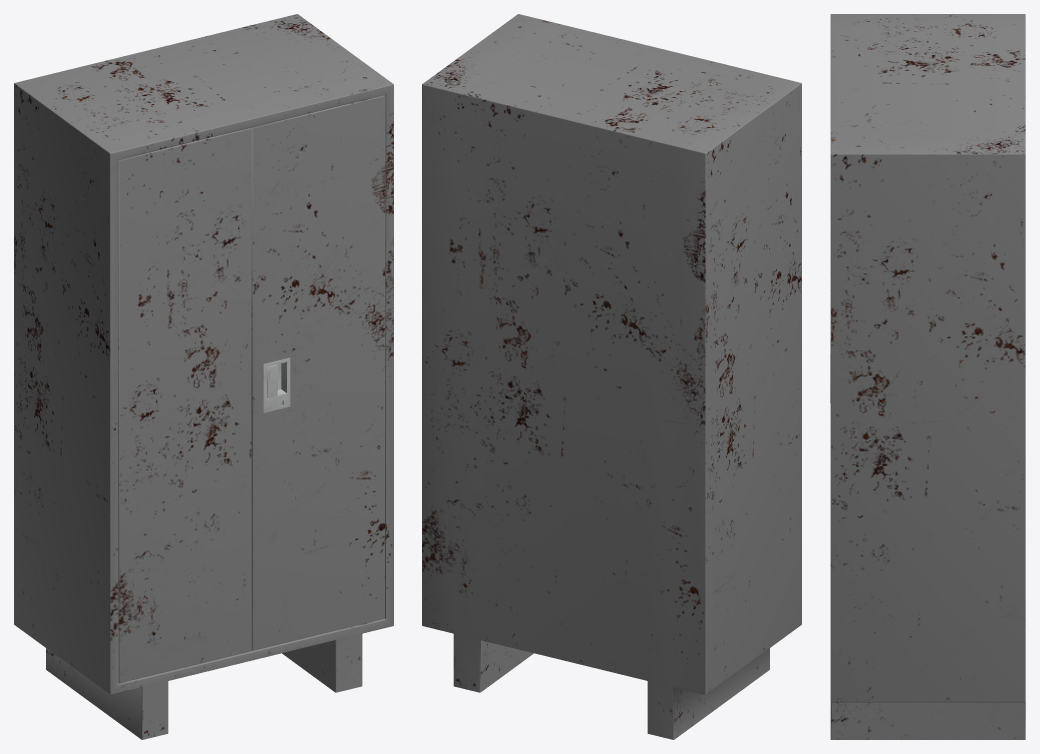
Rendered from cupboard.glb.
3 views of the same model, side by side, from view 1: azimuth 30°, elevation 25°; view 2: azimuth 150°, elevation 25°; view 3: azimuth 270°, elevation 25° (orthographic).
Visible parts, largest first — view 1: cupboard__0; view 2: cupboard__0; view 3: cupboard__0.
Boxes of the visible parts, box(x1,y1,x2,y2) form: cupboard__0: box(14, 14, 393, 739); cupboard__0: box(422, 14, 801, 739); cupboard__0: box(830, 14, 1025, 739).
Size of the model in its own units: 0.85 by 1.7 by 0.501.
1 material, 1 textured.
